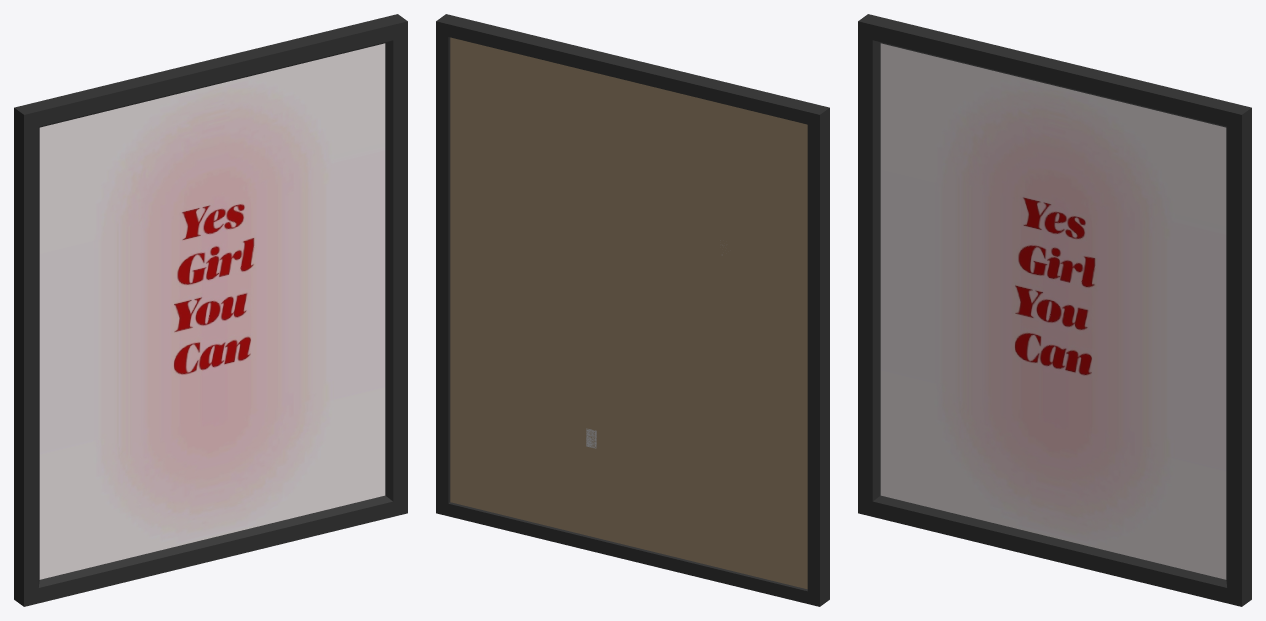
The model's file is yes-girl-40x50.glb.
3 views of the same model, side by side, from view 1: azimuth 30°, elevation 25°; view 2: azimuth 150°, elevation 25°; view 3: azimuth 330°, elevation 25° (orthographic).
Visible parts, largest first — view 1: LAWHA 40x50; view 2: LAWHA 40x50; view 3: LAWHA 40x50.
Boxes of the visible parts, left/top/right/bottom form: LAWHA 40x50: left=14, top=14, right=407, bottom=606; LAWHA 40x50: left=436, top=14, right=829, bottom=606; LAWHA 40x50: left=858, top=14, right=1251, bottom=606.
Size of the model in its own units: 0.444 by 0.544 by 0.02.
4 materials, 1 textured.
